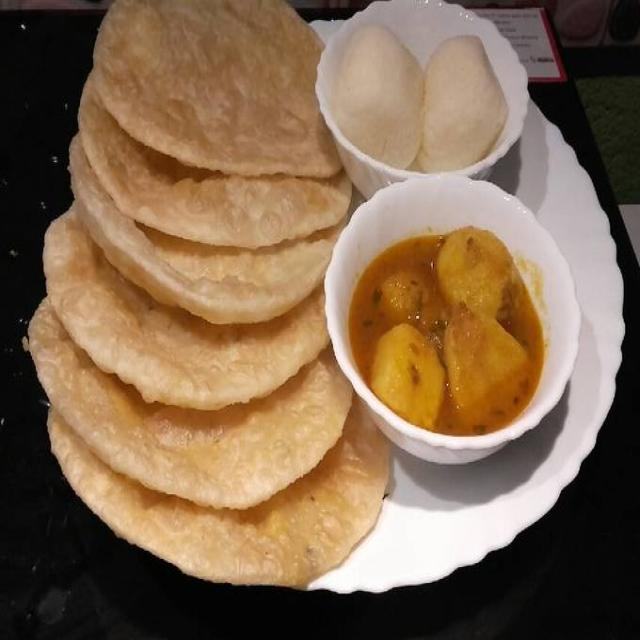CURRY: (351, 228, 545, 442)
POORI: (26, 0, 392, 589)
SWEET: (333, 20, 507, 175)
